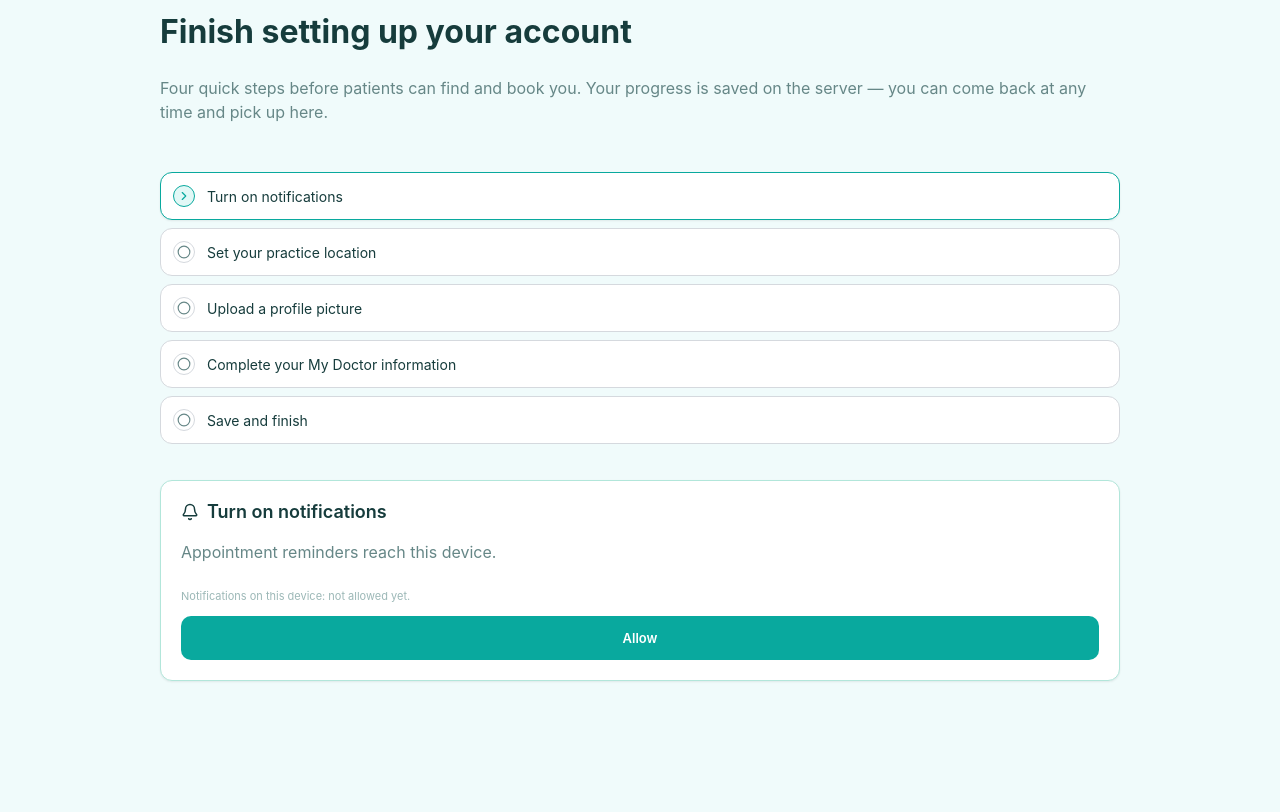
Test case: doctor onboarding — every setup item is a real action › runs the task behind each step when its button is tapped
Expected: the heading "Turn on notifications" is shown, [181,501,387,522]
Expected: the button "Allow" is shown, [181,616,1099,660]
2 — location: GPS capture plus the redirect to the real location form.
Click the button with class "onboarding__step-btn" showing "Set your practice location" at (292, 252), box [160,228,1120,276]
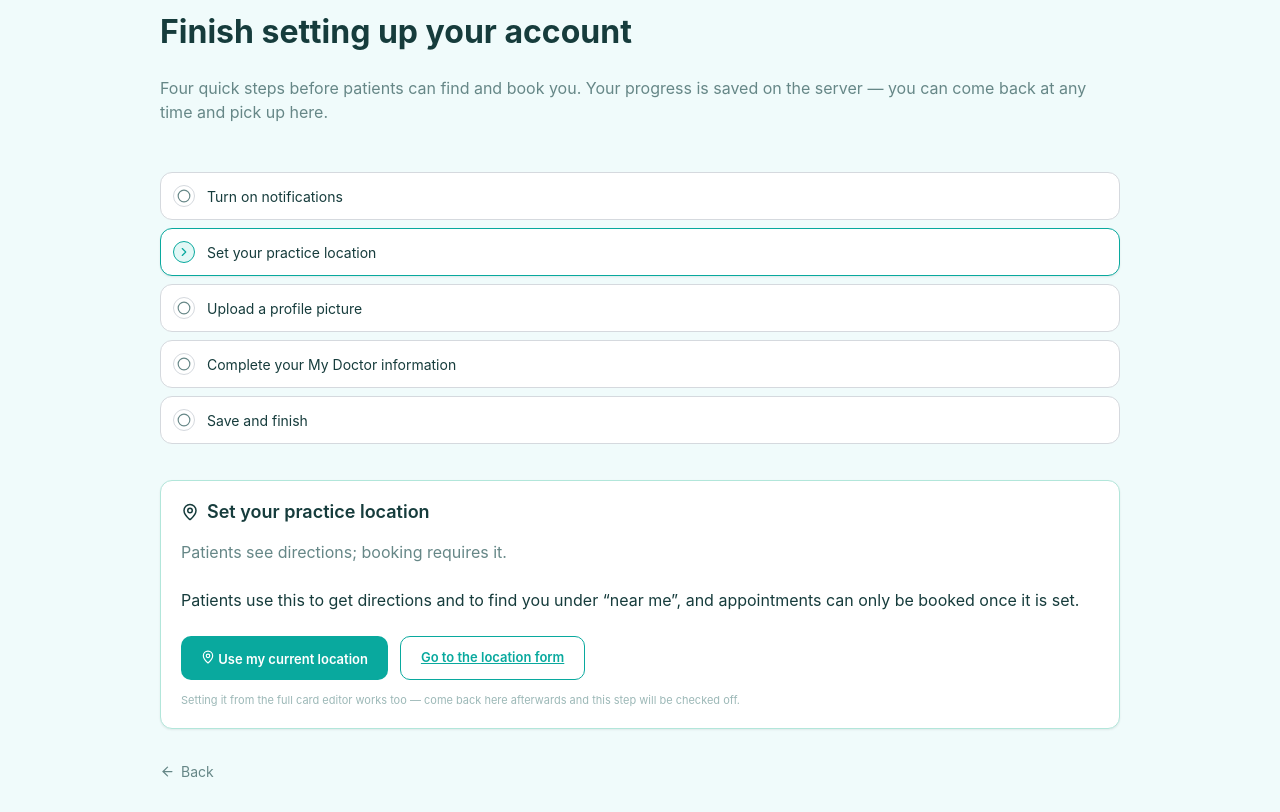
Expected: the button "Use my current location" is shown, [181,636,388,680]
3 — profile picture: opens the real file picker trigger.
Click the button with class "onboarding__step-btn" showing "Upload a profile picture" at (285, 308), box [160,284,1120,332]
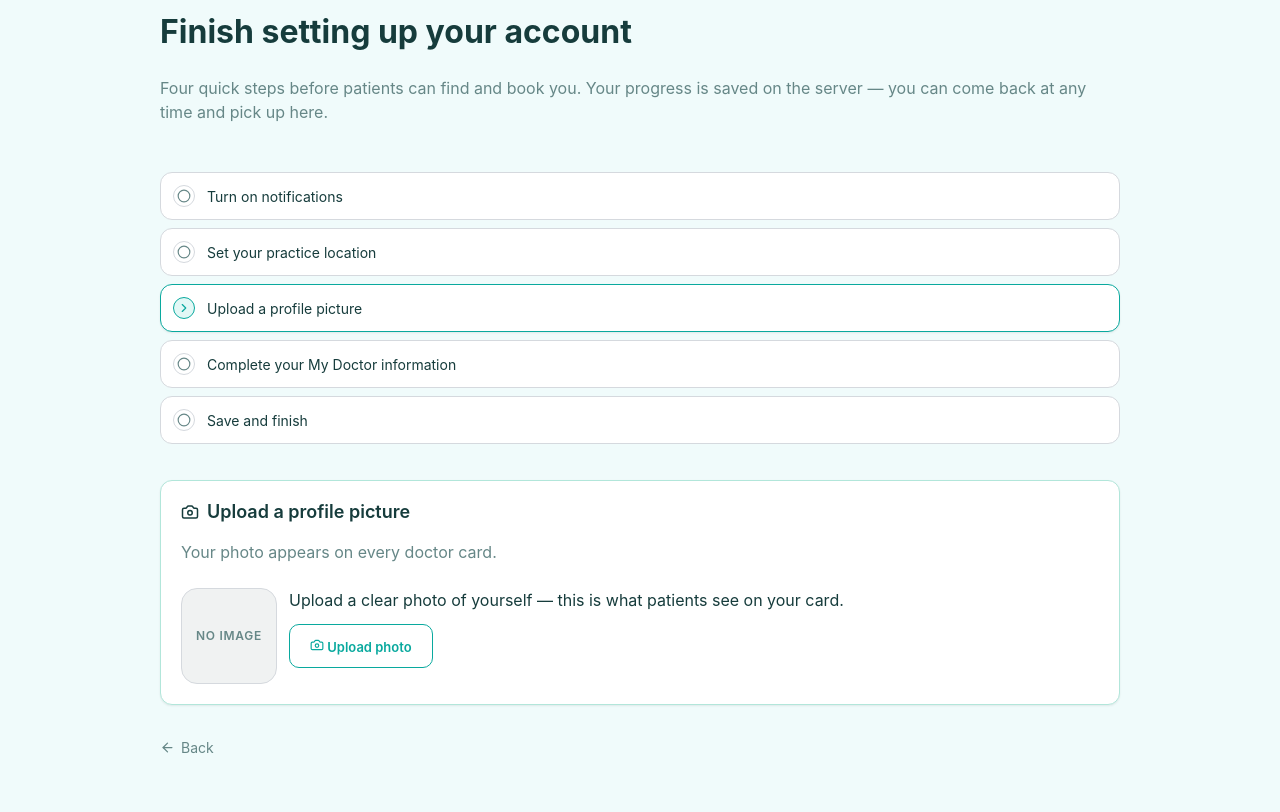
Expected: the button "Upload photo" is shown, [289,624,433,668]
4 — My Doctor: opens the REAL My Doctor page, no duplicate form here.
Click the button with class "onboarding__step-btn" that starts with "Complete your My Doctor information" at (332, 364), box [160,340,1120,388]
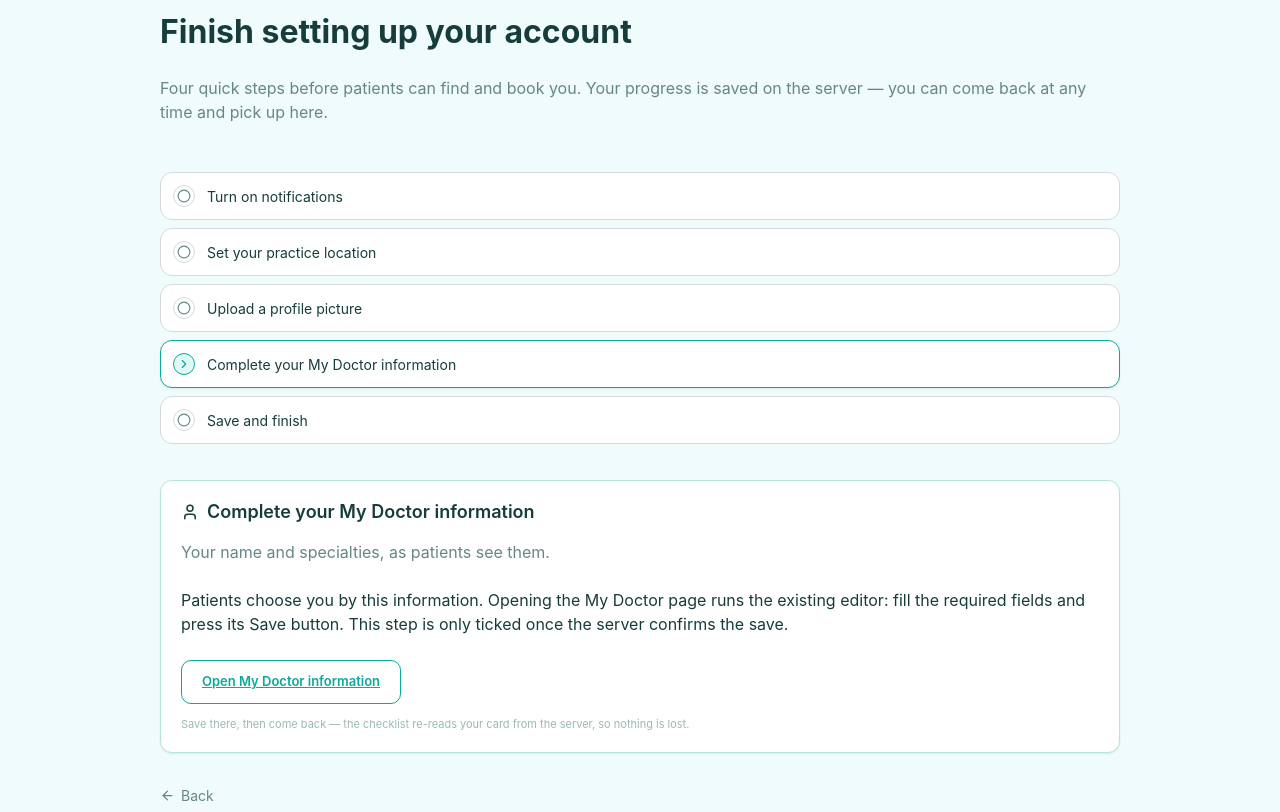
5 — Save and finish: the server-validated completion action.
Click the button with class "onboarding__step-btn" showing "Save and finish" at (257, 420), box [160,396,1120,444]
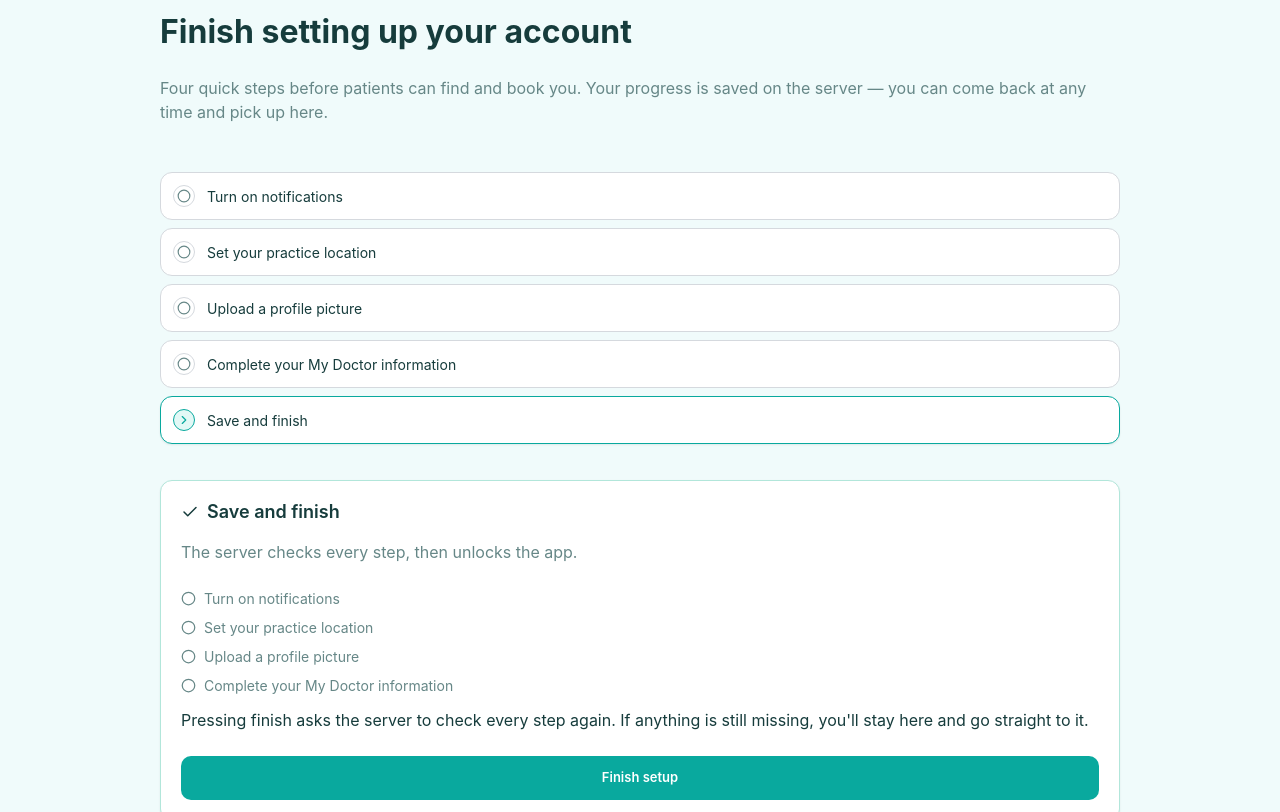
Expected: the button "Finish setup" is shown, [181,756,1099,800]
